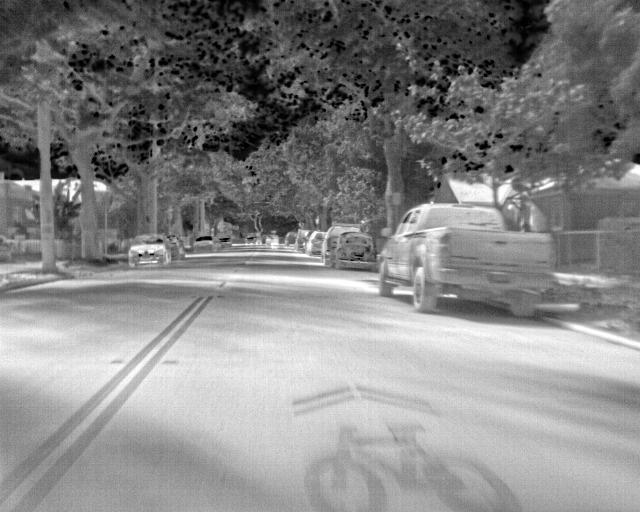car: (377, 204, 555, 321), (334, 230, 374, 269), (322, 224, 361, 264), (127, 235, 171, 268), (306, 229, 326, 255), (170, 235, 188, 262), (193, 235, 216, 253), (294, 228, 312, 250), (243, 230, 260, 245), (284, 229, 299, 245), (217, 237, 233, 250)
